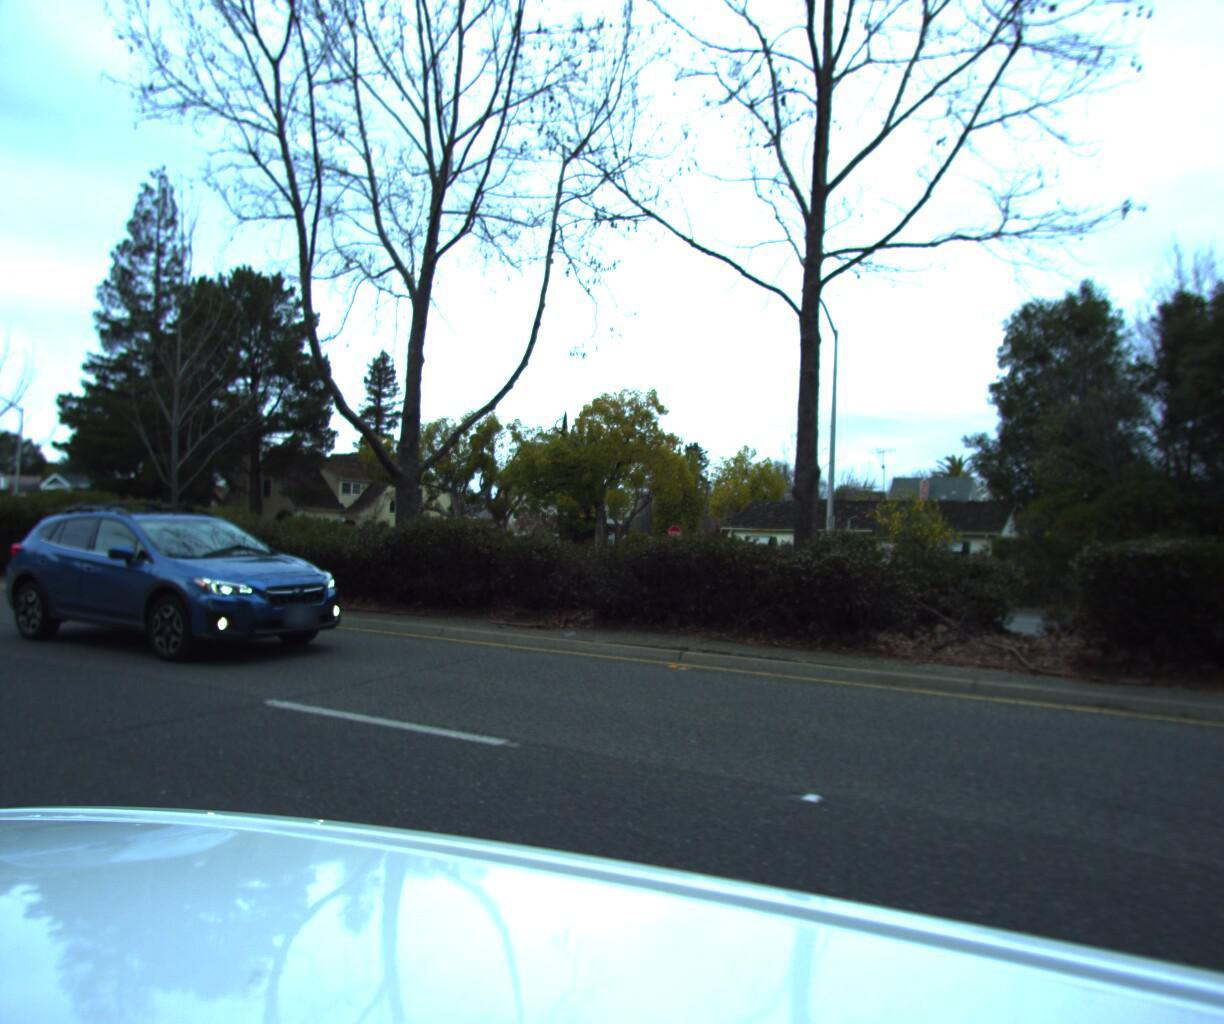car: (0, 503, 370, 670)
